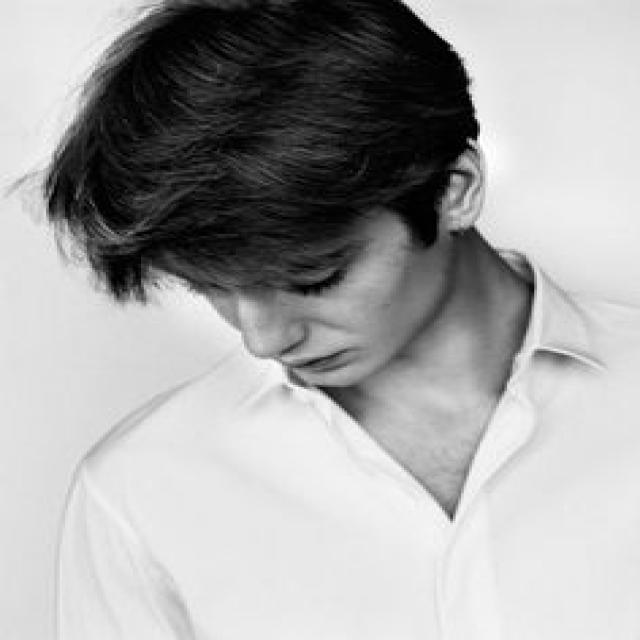9_cabeza_baja: (40, 0, 482, 387)
